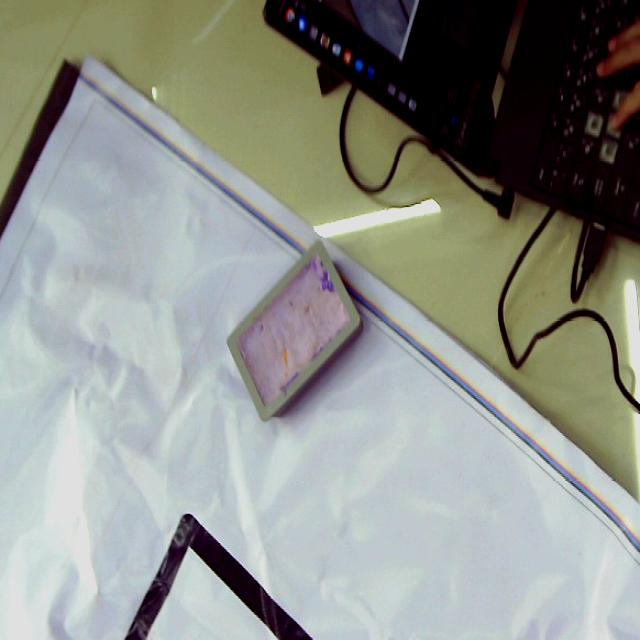block: (227, 239, 363, 421)
